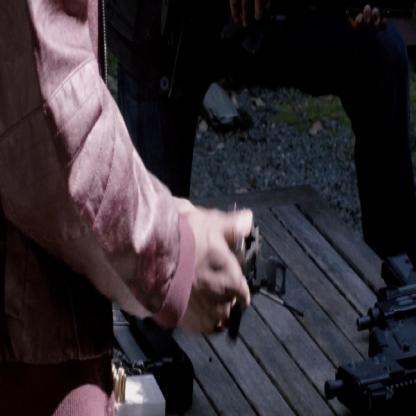Gun: (322, 238, 416, 415)
